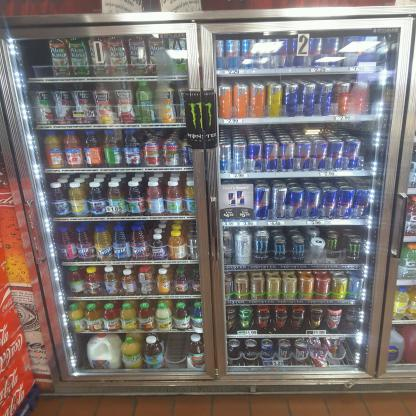Void: (26, 41, 52, 74), (362, 130, 380, 171), (168, 335, 181, 364)
